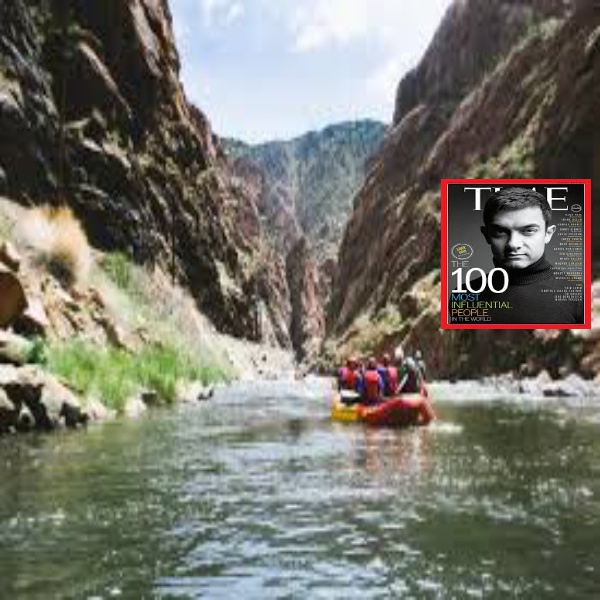time_cover: (445, 177, 588, 332)
